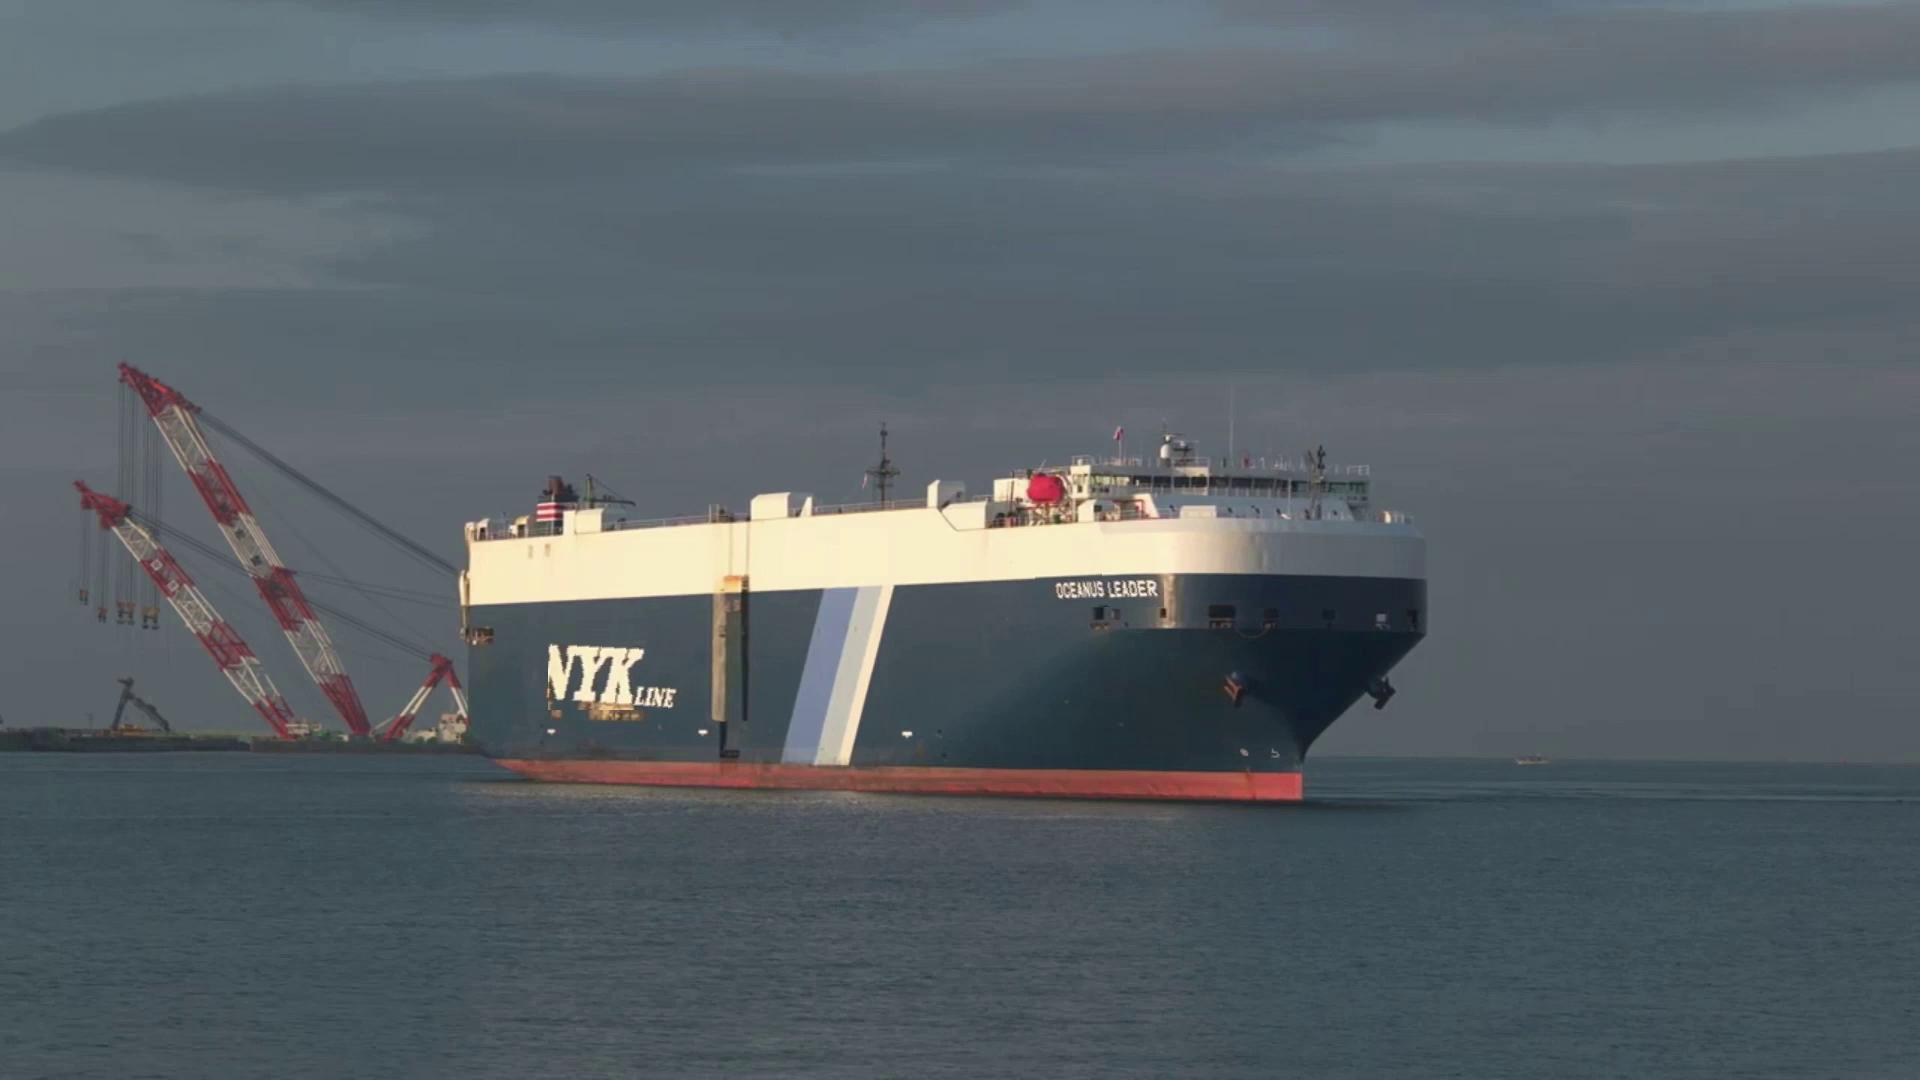OCR: (549, 628, 696, 709), (1034, 574, 1164, 608)
